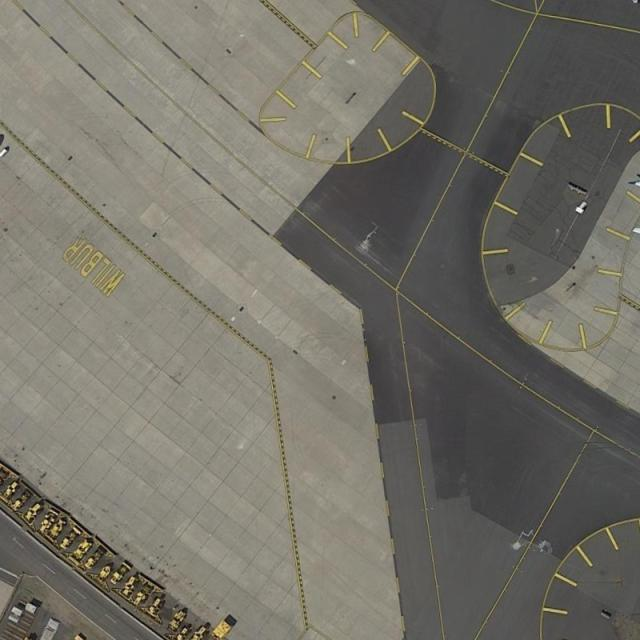vehicle: (630, 1, 640, 5)
